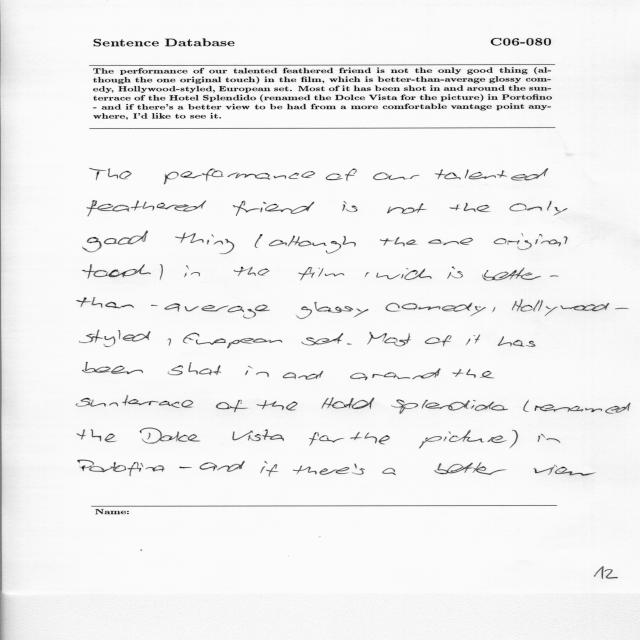word: (76, 298, 270, 319), (164, 169, 315, 185), (512, 299, 629, 316), (87, 201, 206, 217), (391, 399, 508, 414), (419, 430, 507, 449), (269, 236, 356, 254), (183, 333, 282, 348), (435, 168, 549, 181), (76, 396, 193, 408), (78, 460, 165, 476), (83, 231, 148, 252), (385, 303, 486, 316), (494, 233, 568, 250), (175, 233, 234, 254), (233, 201, 315, 216), (297, 302, 369, 319), (80, 330, 151, 347), (350, 369, 441, 381), (535, 403, 631, 414), (83, 264, 151, 279), (482, 268, 559, 281), (140, 428, 201, 444), (434, 462, 506, 475), (510, 201, 568, 216), (82, 362, 143, 374), (168, 363, 221, 376), (534, 465, 596, 476), (376, 268, 432, 280), (322, 397, 375, 409), (232, 430, 284, 442), (367, 332, 411, 346), (299, 267, 345, 280), (319, 463, 365, 475), (77, 430, 116, 443), (90, 168, 132, 180), (301, 333, 343, 345), (309, 432, 345, 446), (200, 461, 245, 472), (350, 432, 390, 444), (257, 400, 298, 411), (387, 203, 426, 214), (498, 336, 536, 347), (326, 168, 357, 181), (216, 400, 248, 412), (453, 369, 495, 378), (373, 173, 420, 181), (450, 203, 491, 212), (283, 371, 324, 380), (380, 237, 417, 246), (425, 335, 452, 347), (428, 238, 473, 245), (234, 267, 269, 276), (260, 461, 278, 477), (245, 366, 269, 377), (447, 266, 463, 279), (538, 434, 560, 443), (184, 265, 200, 277), (293, 466, 317, 474), (342, 201, 358, 212), (466, 335, 480, 346), (510, 430, 518, 448), (255, 234, 263, 248), (382, 468, 396, 475), (524, 401, 530, 412), (160, 264, 163, 280), (168, 338, 171, 346), (180, 467, 192, 469), (365, 272, 369, 277), (492, 307, 495, 312), (347, 343, 352, 345)
